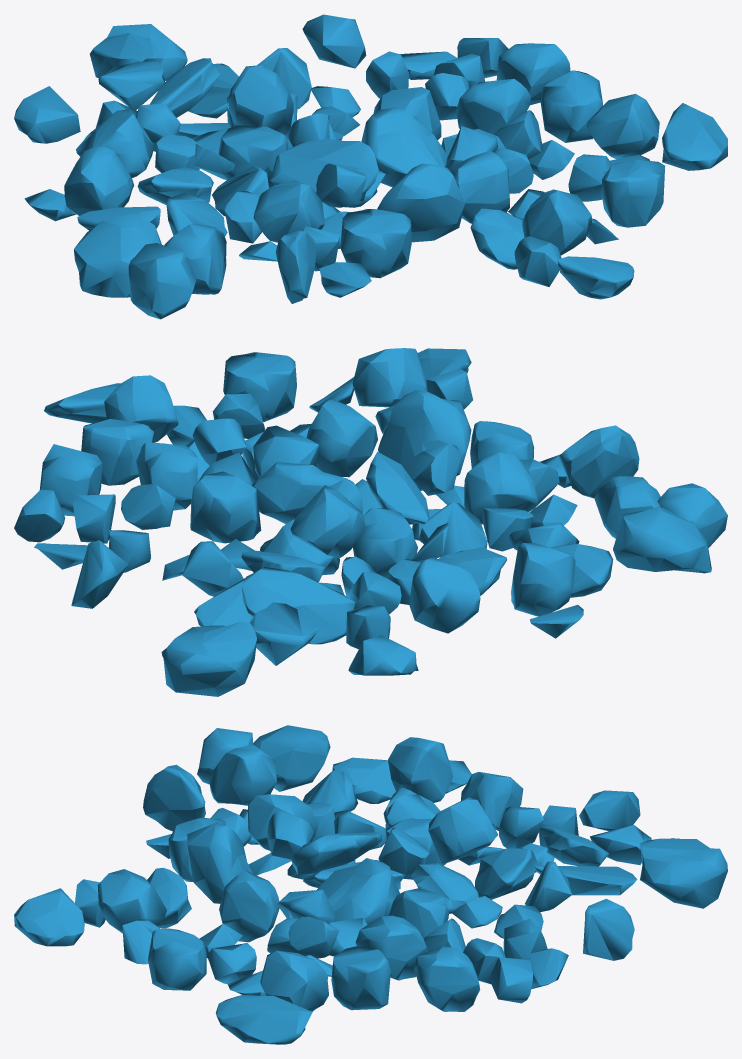
Rendered from Scree_04_Lod2.fbx.
3 views of the same model, one above another, from view 1: azimuth 30°, elevation 25°; view 2: azimuth 150°, elevation 25°; view 3: azimuth 270°, elevation 25° (orthographic). The views are drawn at different scales.
Parts seen in each view (by area): view 1: Scree_04_Lod2; view 2: Scree_04_Lod2; view 3: Scree_04_Lod2.
Boxes of the visible parts, x1,y1,x2,y2 form: Scree_04_Lod2: (14,14,727,319); Scree_04_Lod2: (14,348,727,696); Scree_04_Lod2: (14,725,727,1044).
Bounding box in the file's own units: 2172 × 357 × 2246.
